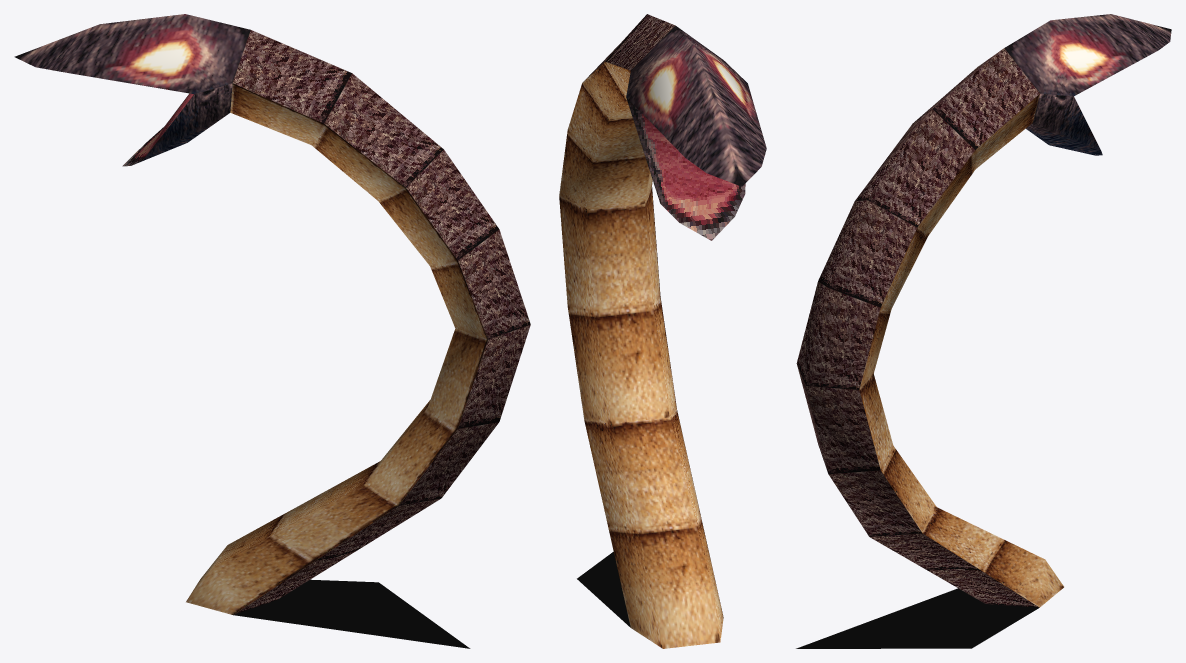
Rendered from RIGHT.obj.
The picture shows the model from 3 angles, left to right: view 1: azimuth 30°, elevation 25°; view 2: azimuth 150°, elevation 25°; view 3: azimuth 270°, elevation 25°; orthographic projection. The views are drawn at different scales.
Bounding box in the file's own units: 43.35 × 70.96 × 43.51.
5 materials, 5 textured.
